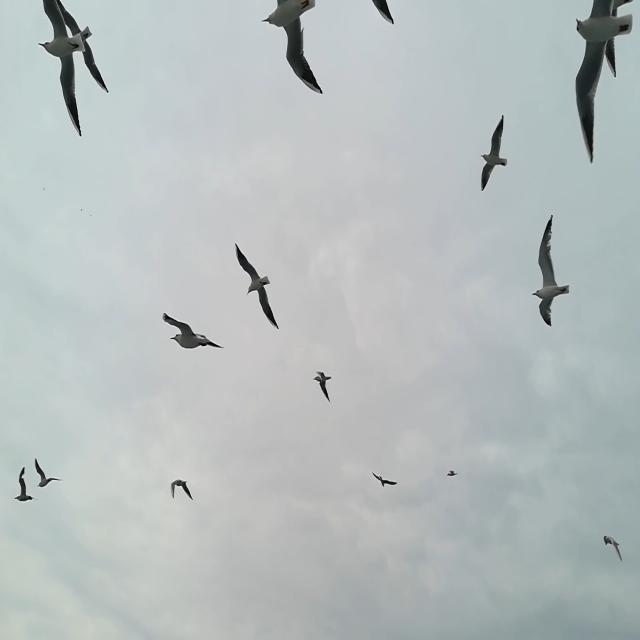bird: (574, 0, 634, 164), (37, 0, 86, 140), (261, 0, 323, 95), (55, 0, 109, 96), (533, 214, 572, 326), (234, 241, 280, 329), (601, 0, 637, 77), (162, 311, 225, 353), (479, 112, 510, 194), (13, 464, 40, 502), (34, 458, 62, 488), (312, 368, 332, 401), (371, 0, 395, 27), (603, 534, 623, 564), (170, 478, 193, 500), (371, 473, 398, 488), (447, 468, 458, 478), (43, 186, 46, 192), (80, 208, 83, 212), (90, 214, 92, 217)
